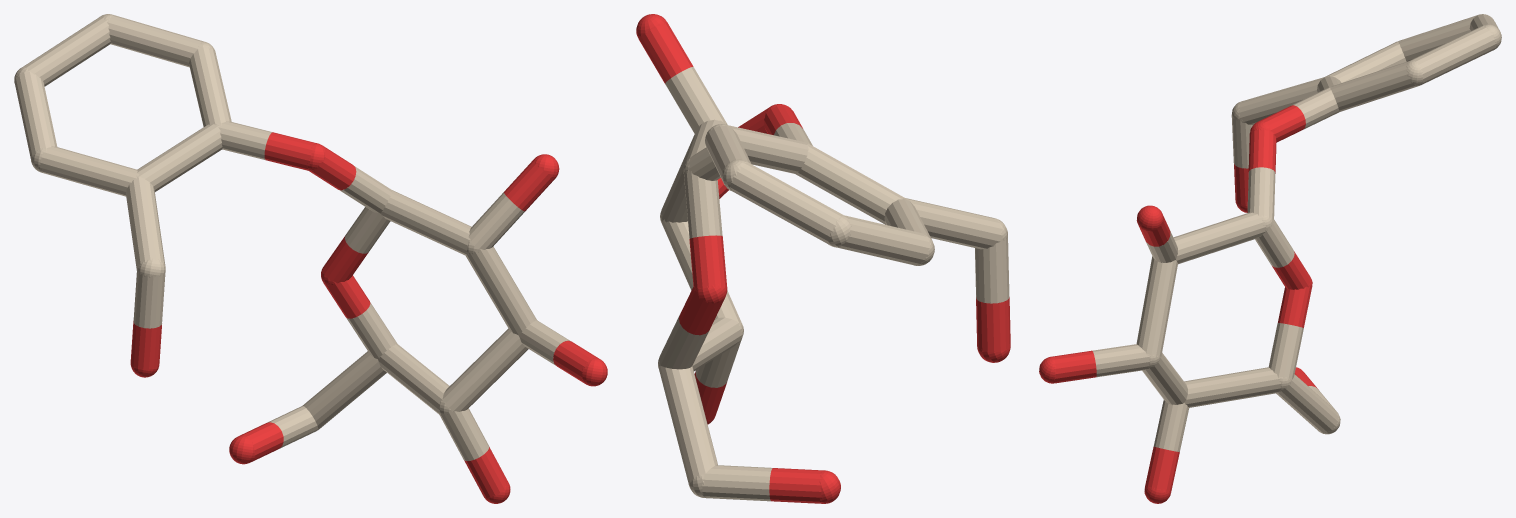
The model's file is salicin 1.fbx.
3 views of the same model, side by side, from view 1: azimuth 30°, elevation 25°; view 2: azimuth 150°, elevation 25°; view 3: azimuth 270°, elevation 25° (orthographic). The views are drawn at different scales.
Visible parts, largest first — view 1: Shape_Cylinder.012, Shape_Cylinder.026, Shape_Cylinder.002, Shape_Cylinder.009, Shape_Cylinder.025, Shape_Cylinder.029, Shape_Cylinder.023, Shape_Cylinder.018, Shape_Cylinder.028, Shape_Cylinder.024, Shape_Cylinder.027, Shape_Cylinder.015 (+18 smaller); view 2: Shape_Cylinder.023, Shape_Cylinder.018, Shape_Cylinder.029, Shape_Cylinder.024, Shape_Cylinder.028, Shape_Cylinder.019, Shape_Cylinder.027, Shape_Cylinder.003, Shape_Cylinder.007, Shape_Cylinder.022, Shape_Cylinder.004, Shape_Cylinder.008 (+19 smaller); view 3: Shape_Cylinder.015, Shape_Cylinder.009, Shape_Cylinder.002, Shape_Cylinder.025, Shape_Cylinder.027, Shape_Cylinder.018, Shape_Cylinder.028, Shape_Cylinder.010, Shape_Cylinder.016, Shape_Cylinder.024, Shape_Cylinder.026, Shape_Cylinder (+14 smaller).
Boxes of the visible parts, x1,y1,x2,y2 form: Shape_Cylinder.012: (442, 328, 528, 411); Shape_Cylinder.026: (40, 146, 139, 196); Shape_Cylinder.002: (381, 190, 471, 255); Shape_Cylinder.009: (465, 246, 536, 335); Shape_Cylinder.025: (107, 15, 203, 67); Shape_Cylinder.029: (137, 124, 222, 191); Shape_Cylinder.023: (22, 16, 110, 86); Shape_Cylinder.018: (302, 351, 386, 429); Shape_Cylinder.028: (126, 176, 165, 270); Shape_Cylinder.024: (14, 71, 57, 159); Shape_Cylinder.027: (189, 46, 231, 126); Shape_Cylinder.015: (378, 344, 449, 414); Shape_Cylinder.023: (730, 161, 844, 244); Shape_Cylinder.018: (658, 365, 717, 484); Shape_Cylinder.029: (795, 143, 906, 224); Shape_Cylinder.024: (837, 215, 930, 265); Shape_Cylinder.028: (905, 198, 1002, 249); Shape_Cylinder.019: (702, 465, 772, 501); Shape_Cylinder.027: (728, 125, 809, 173); Shape_Cylinder.003: (684, 171, 722, 238); Shape_Cylinder.007: (665, 67, 727, 134); Shape_Cylinder.022: (975, 235, 1009, 303); Shape_Cylinder.004: (689, 235, 727, 290); Shape_Cylinder.008: (638, 22, 693, 83); Shape_Cylinder.015: (1184, 367, 1281, 407); Shape_Cylinder.009: (1136, 256, 1177, 357); Shape_Cylinder.002: (1167, 212, 1265, 264); Shape_Cylinder.025: (1410, 25, 1496, 84); Shape_Cylinder.027: (1329, 61, 1417, 111); Shape_Cylinder.018: (1276, 374, 1338, 433); Shape_Cylinder.028: (1237, 77, 1323, 125); Shape_Cylinder.010: (1092, 344, 1150, 377); Shape_Cylinder.016: (1268, 323, 1303, 380); Shape_Cylinder.024: (1397, 15, 1476, 61); Shape_Cylinder.026: (1325, 41, 1406, 82); Shape_Cylinder: (1247, 167, 1275, 220).
Bounding box in the file's own units: 619 × 622 × 684.
